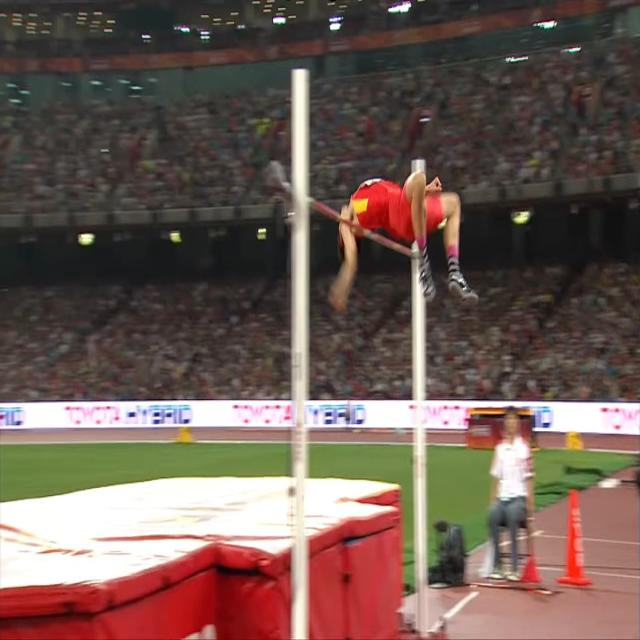jump: (329, 169, 479, 307)
